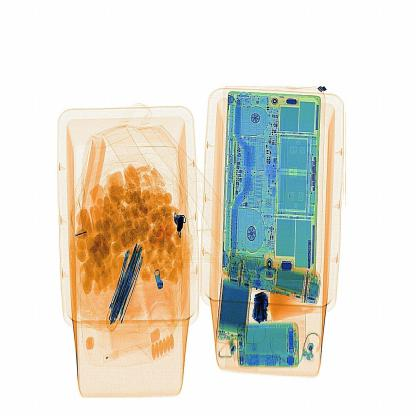scissors: (249, 285, 274, 324)
